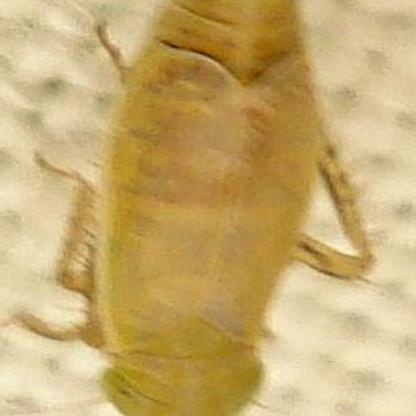green-leafhopper: (90, 0, 358, 416)
